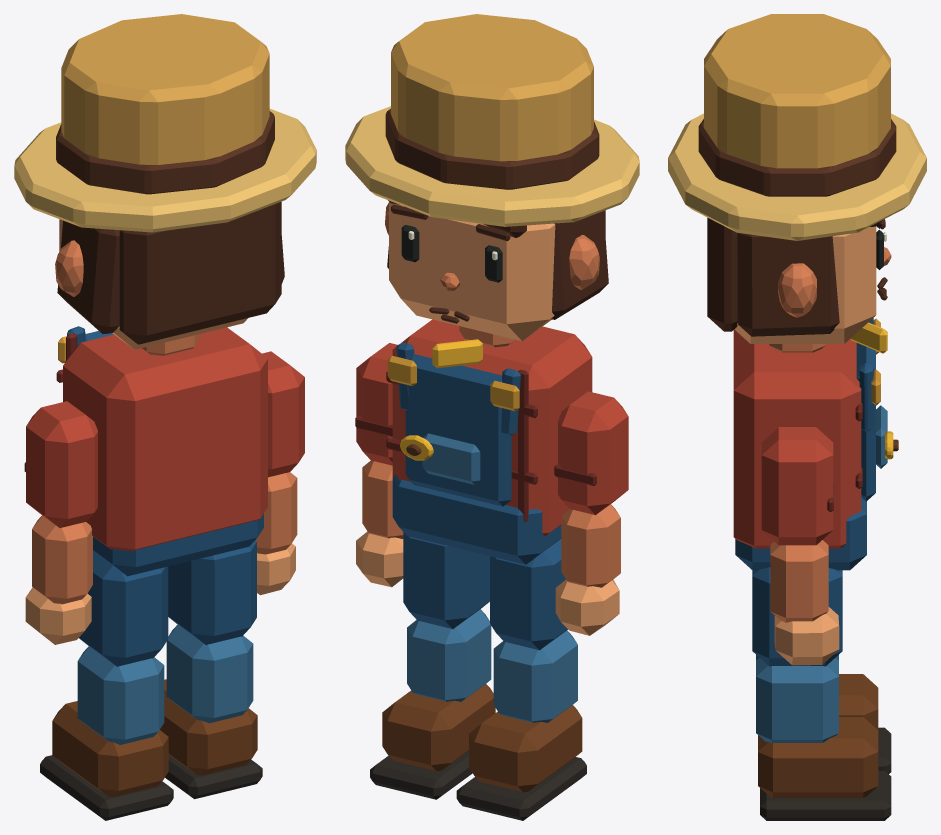
File: FarmerAvatar.glb
3 views of the same model, side by side, from view 1: azimuth 30°, elevation 25°; view 2: azimuth 150°, elevation 25°; view 3: azimuth 270°, elevation 25° (orthographic). The views are drawn at different scales.
Visible parts, largest first — view 1: FarmerAvatar_Torso, FarmerAvatar_HatCrown, FarmerAvatar_HairBack, FarmerAvatar_HatBrim, FarmerAvatar_UpperArm_L, FarmerAvatar_OverallLeg_L, FarmerAvatar_OverallLeg_R, FarmerAvatar_LowerLeg_L, FarmerAvatar_LowerLeg_R, FarmerAvatar_HatBand, FarmerAvatar_Boot_L, FarmerAvatar_Boot_R (+12 smaller); view 2: FarmerAvatar_HatCrown, FarmerAvatar_Head, FarmerAvatar_HatBrim, FarmerAvatar_Torso, FarmerAvatar_OverallBib, FarmerAvatar_OverallWaist, FarmerAvatar_UpperArm_L, FarmerAvatar_Boot_L, FarmerAvatar_Boot_R, FarmerAvatar_OverallLeg_R, FarmerAvatar_HatBand, FarmerAvatar_LowerLeg_L (+21 smaller); view 3: FarmerAvatar_HatCrown, FarmerAvatar_Torso, FarmerAvatar_HatBrim, FarmerAvatar_HairSide_R, FarmerAvatar_UpperArm_R, FarmerAvatar_Boot_R, FarmerAvatar_LowerLeg_R, FarmerAvatar_HatBand, FarmerAvatar_Head, FarmerAvatar_Forearm_R, FarmerAvatar_BootSole_R, FarmerAvatar_HairBack (+10 smaller).
Part boxes in pixels (x1,y1,x2,y2): FarmerAvatar_Torso: [63, 327, 267, 551]; FarmerAvatar_HatCrown: [61, 14, 269, 164]; FarmerAvatar_HairBack: [119, 201, 281, 344]; FarmerAvatar_HatBrim: [14, 108, 316, 232]; FarmerAvatar_UpperArm_L: [26, 401, 97, 527]; FarmerAvatar_OverallLeg_L: [79, 551, 168, 666]; FarmerAvatar_OverallLeg_R: [168, 540, 256, 645]; FarmerAvatar_LowerLeg_L: [77, 646, 164, 744]; FarmerAvatar_LowerLeg_R: [166, 624, 253, 723]; FarmerAvatar_HatBand: [56, 111, 274, 194]; FarmerAvatar_Boot_L: [52, 701, 168, 796]; FarmerAvatar_Boot_R: [160, 679, 257, 775]; FarmerAvatar_HatCrown: [391, 14, 593, 161]; FarmerAvatar_Head: [389, 202, 555, 341]; FarmerAvatar_HatBrim: [345, 106, 639, 226]; FarmerAvatar_Torso: [392, 319, 592, 535]; FarmerAvatar_OverallBib: [405, 354, 511, 506]; FarmerAvatar_OverallWaist: [392, 474, 561, 564]; FarmerAvatar_UpperArm_L: [558, 391, 628, 515]; FarmerAvatar_Boot_L: [469, 705, 582, 792]; FarmerAvatar_Boot_R: [382, 684, 495, 771]; FarmerAvatar_OverallLeg_R: [403, 532, 489, 629]; FarmerAvatar_HatBand: [385, 108, 599, 189]; FarmerAvatar_LowerLeg_L: [493, 630, 577, 722]; FarmerAvatar_HatCrown: [704, 14, 890, 168]; FarmerAvatar_Torso: [733, 329, 861, 548]; FarmerAvatar_HatBrim: [668, 113, 926, 240]; FarmerAvatar_HairSide_R: [737, 232, 839, 336]; FarmerAvatar_UpperArm_R: [761, 427, 833, 545]; FarmerAvatar_Boot_R: [758, 717, 878, 797]; FarmerAvatar_LowerLeg_R: [756, 658, 838, 742]; FarmerAvatar_HatBand: [698, 119, 896, 196]; FarmerAvatar_Head: [734, 226, 876, 343]; FarmerAvatar_Forearm_R: [770, 540, 828, 622]; FarmerAvatar_BootSole_R: [760, 770, 891, 820]; FarmerAvatar_HairBack: [707, 217, 737, 331].
Size of the model in its own units: 0.8288 by 2.15 by 0.6888.
